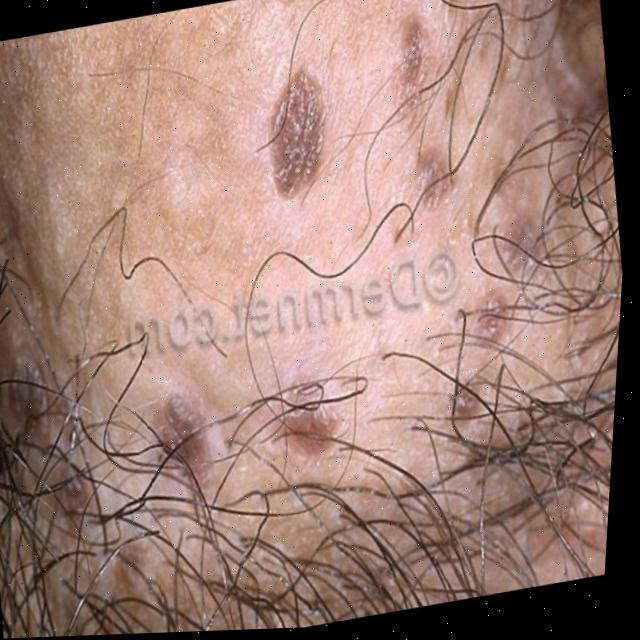Shingles: (349, 0, 592, 429), (249, 56, 352, 217), (266, 385, 367, 454), (171, 395, 211, 458)
